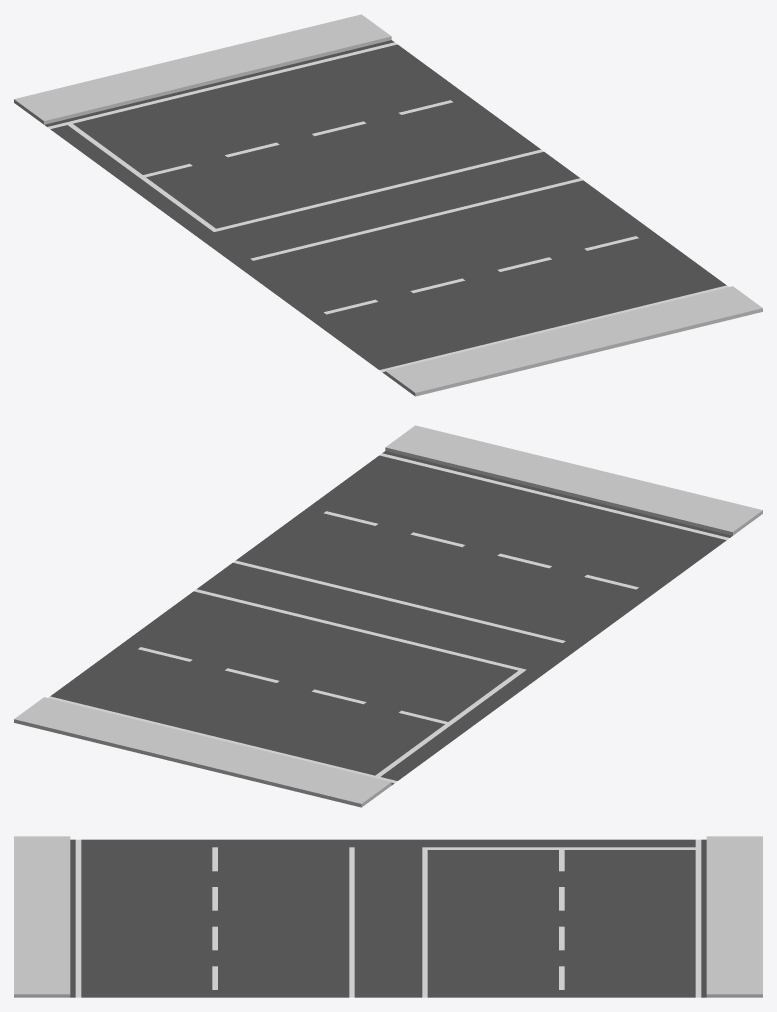
Rendered from SPW_Urban_Road 4way_03.gltf.
3 renders of one model, top to bottom at view 1: azimuth 30°, elevation 25°; view 2: azimuth 150°, elevation 25°; view 3: azimuth 270°, elevation 25°, orthographic. The views are drawn at different scales.
Visible parts, largest first — view 1: SPW_Urban_Road_4way_03; view 2: SPW_Urban_Road_4way_03; view 3: SPW_Urban_Road_4way_03.
Part boxes in pixels (<box>): SPW_Urban_Road_4way_03: <box>14,14,762,396</box>; SPW_Urban_Road_4way_03: <box>14,425,762,807</box>; SPW_Urban_Road_4way_03: <box>14,836,762,997</box>.
Bounding box in the file's own units: 787 × 7.87 × 1575.
1 material, 1 textured.
